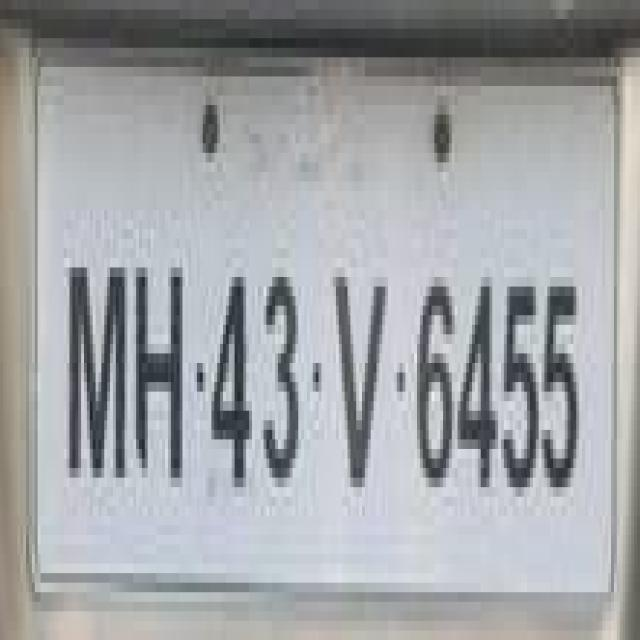license_plate: (32, 67, 634, 592)
